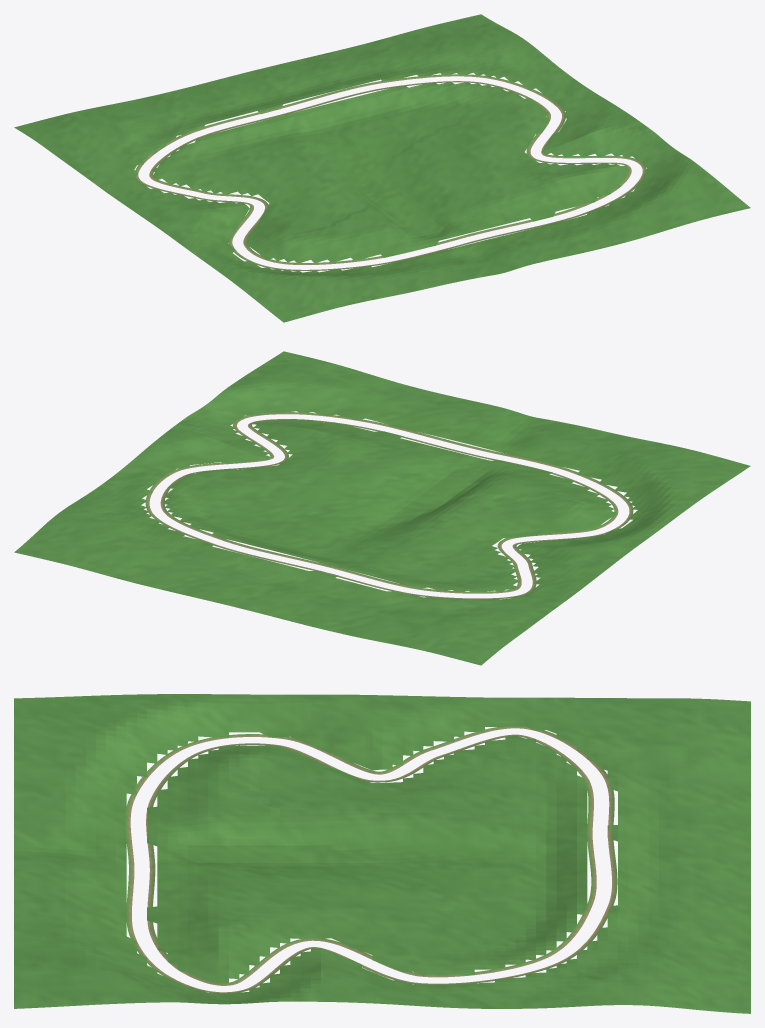
The model's file is lowpoly_terrain_lod.glb.
3 views of the same model, one above another, from view 1: azimuth 30°, elevation 25°; view 2: azimuth 150°, elevation 25°; view 3: azimuth 270°, elevation 25° (orthographic). The views are drawn at different scales.
Parts seen in each view (by area): view 1: primitive_lowpoly_terrain; view 2: primitive_lowpoly_terrain; view 3: primitive_lowpoly_terrain.
Boxes of the visible parts, bbox=[...] form: primitive_lowpoly_terrain: bbox=[14, 14, 750, 322]; primitive_lowpoly_terrain: bbox=[14, 351, 750, 665]; primitive_lowpoly_terrain: bbox=[14, 694, 750, 1013].
Size of the model in its own units: 1127 by 37.18 by 1127.
